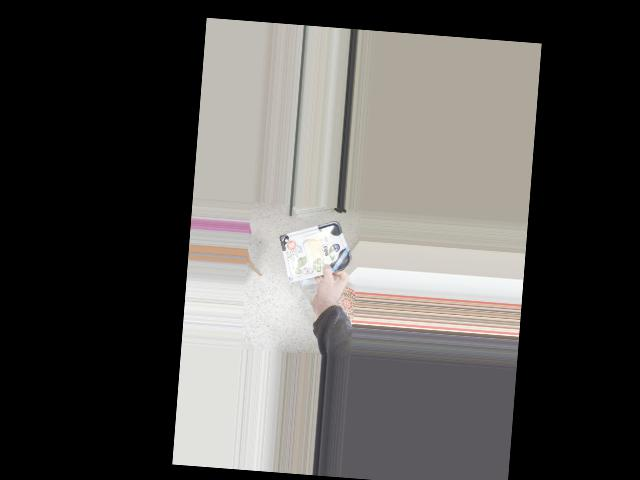cheese: (282, 223, 348, 275)
